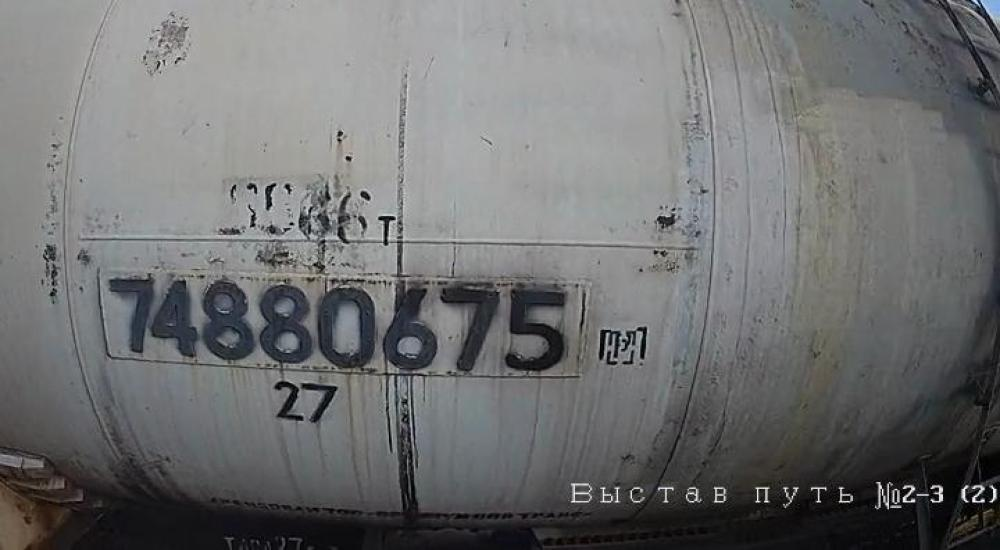Wagon-number: (105, 266, 571, 378)
